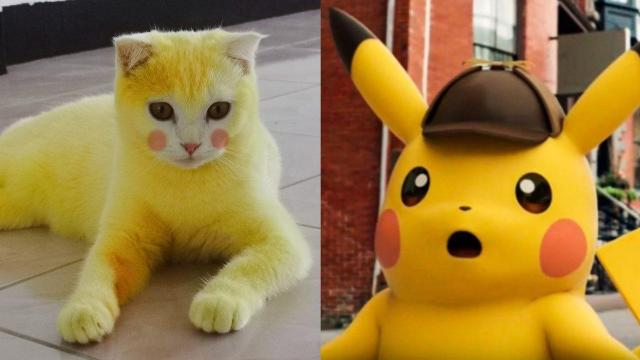pickachu: (325, 3, 639, 357)
